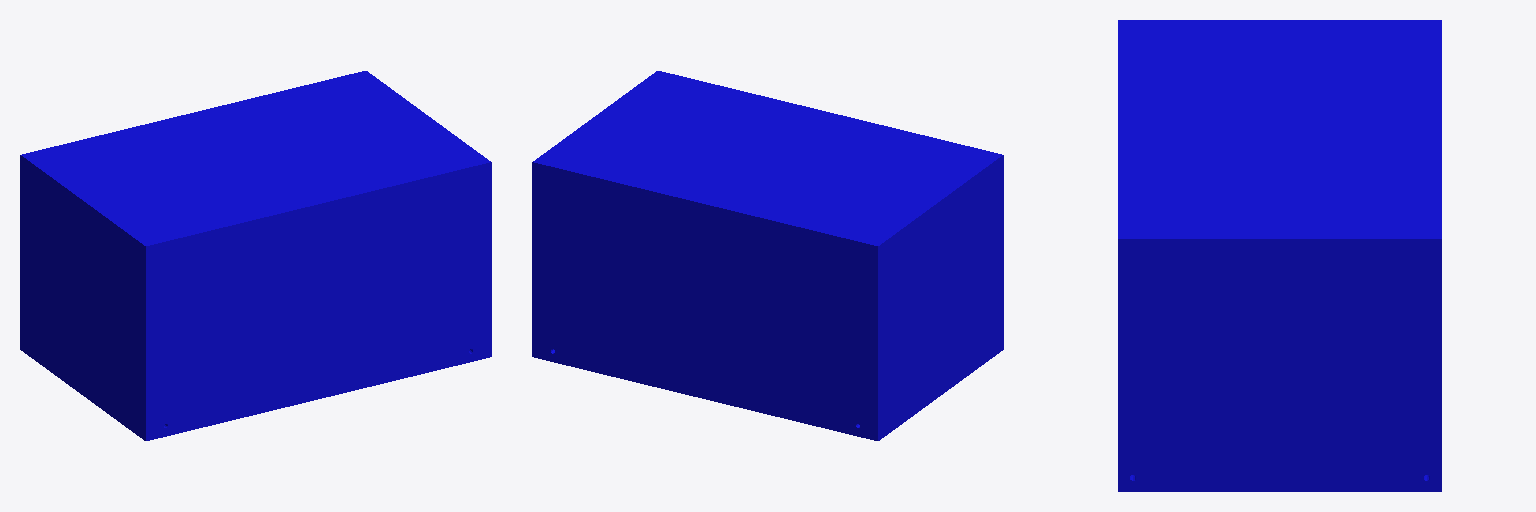
robot.urdf — battery:
<?xml version="1.0" ?>
<!-- =================================================================================== -->
<!-- |    This document was autogenerated by xacro from battery.xacro                  | -->
<!-- |    EDITING THIS FILE BY HAND IS NOT RECOMMENDED                                 | -->
<!-- =================================================================================== -->
<robot name="battery">
  <!-- Call the battery macro -->
  <link name="base_link"/>
  <!-- Joint Definition -->
  <joint name="bat_battery_joint" type="fixed">
    <parent link="base_link"/>
    <child link=" bat_battery_link"/>
    <origin rpy="0.0 0.0 0.0" xyz="0.0 0.0 0.0"/>
    <axis xyz="0.0 0.0 1.0"/>
    <limit effort="100" velocity="100"/>
    <dynamics damping="0.1" friction="0.1"/>
  </joint>
  <!-- Link Definition -->
  <link name=" bat_battery_link">
    <inertial>
      <mass value="55.0"/>
      <inertia ixx="0.8143" ixy="0" ixz="0.0014" iyy="1.696" iyz="0" izz="1.819"/>
      <origin rpy="0 0 0" xyz="0 0 0"/>
    </inertial>
    <!-- Geometry -->
    <visual>
      <origin rpy="0 0 0" xyz="0 0 0"/>
      <geometry>
        <mesh filename="package://kart_description/meshes/battery_link.STL"/>
        <!--scale="${scale_factor*0.001*reflect}
				${scale_factor*0.001} ${scale_factor*0.001}"-->
      </geometry>
      <material name="plastic">
        <color rgba="0.1 0.1 0.9 1.0"/>
      </material>
    </visual>
    <!-- Collision -->
    <collision>
      <origin rpy="0 0 0" xyz="0 0 0"/>
      <geometry>
        <mesh filename="package://kart_description/meshes/battery_link.STL"/>
        <!--scale="${scale_factor*0.001*reflect}
					${scale_factor*0.001} ${scale_factor*0.001}"-->
      </geometry>
    </collision>
  </link>
</robot>

--- What the picture shows (computed from the rendered views, not written in the file) ---
The picture shows the robot from 3 angles, left to right: view 1: azimuth 30°, elevation 25°; view 2: azimuth 150°, elevation 25°; view 3: azimuth 270°, elevation 25°; orthographic projection.
Model battery with 2 links and 1 joints (1 fixed), rooted at base_link, posed all joints at 0.
Links seen in each view (by area): view 1: bat_battery_link; view 2: bat_battery_link; view 3: bat_battery_link.
Boxes of the visible links, x1,y1,x2,y2 form: bat_battery_link: (20,71,491,440); bat_battery_link: (532,71,1003,440); bat_battery_link: (1118,20,1441,491).
Bounding box of the posed robot: 0.51 × 0.32 × 0.275 m (x, y, z).
Meshes: 1 distinct files referenced, 1 mesh visuals loaded (1 binary STL).
